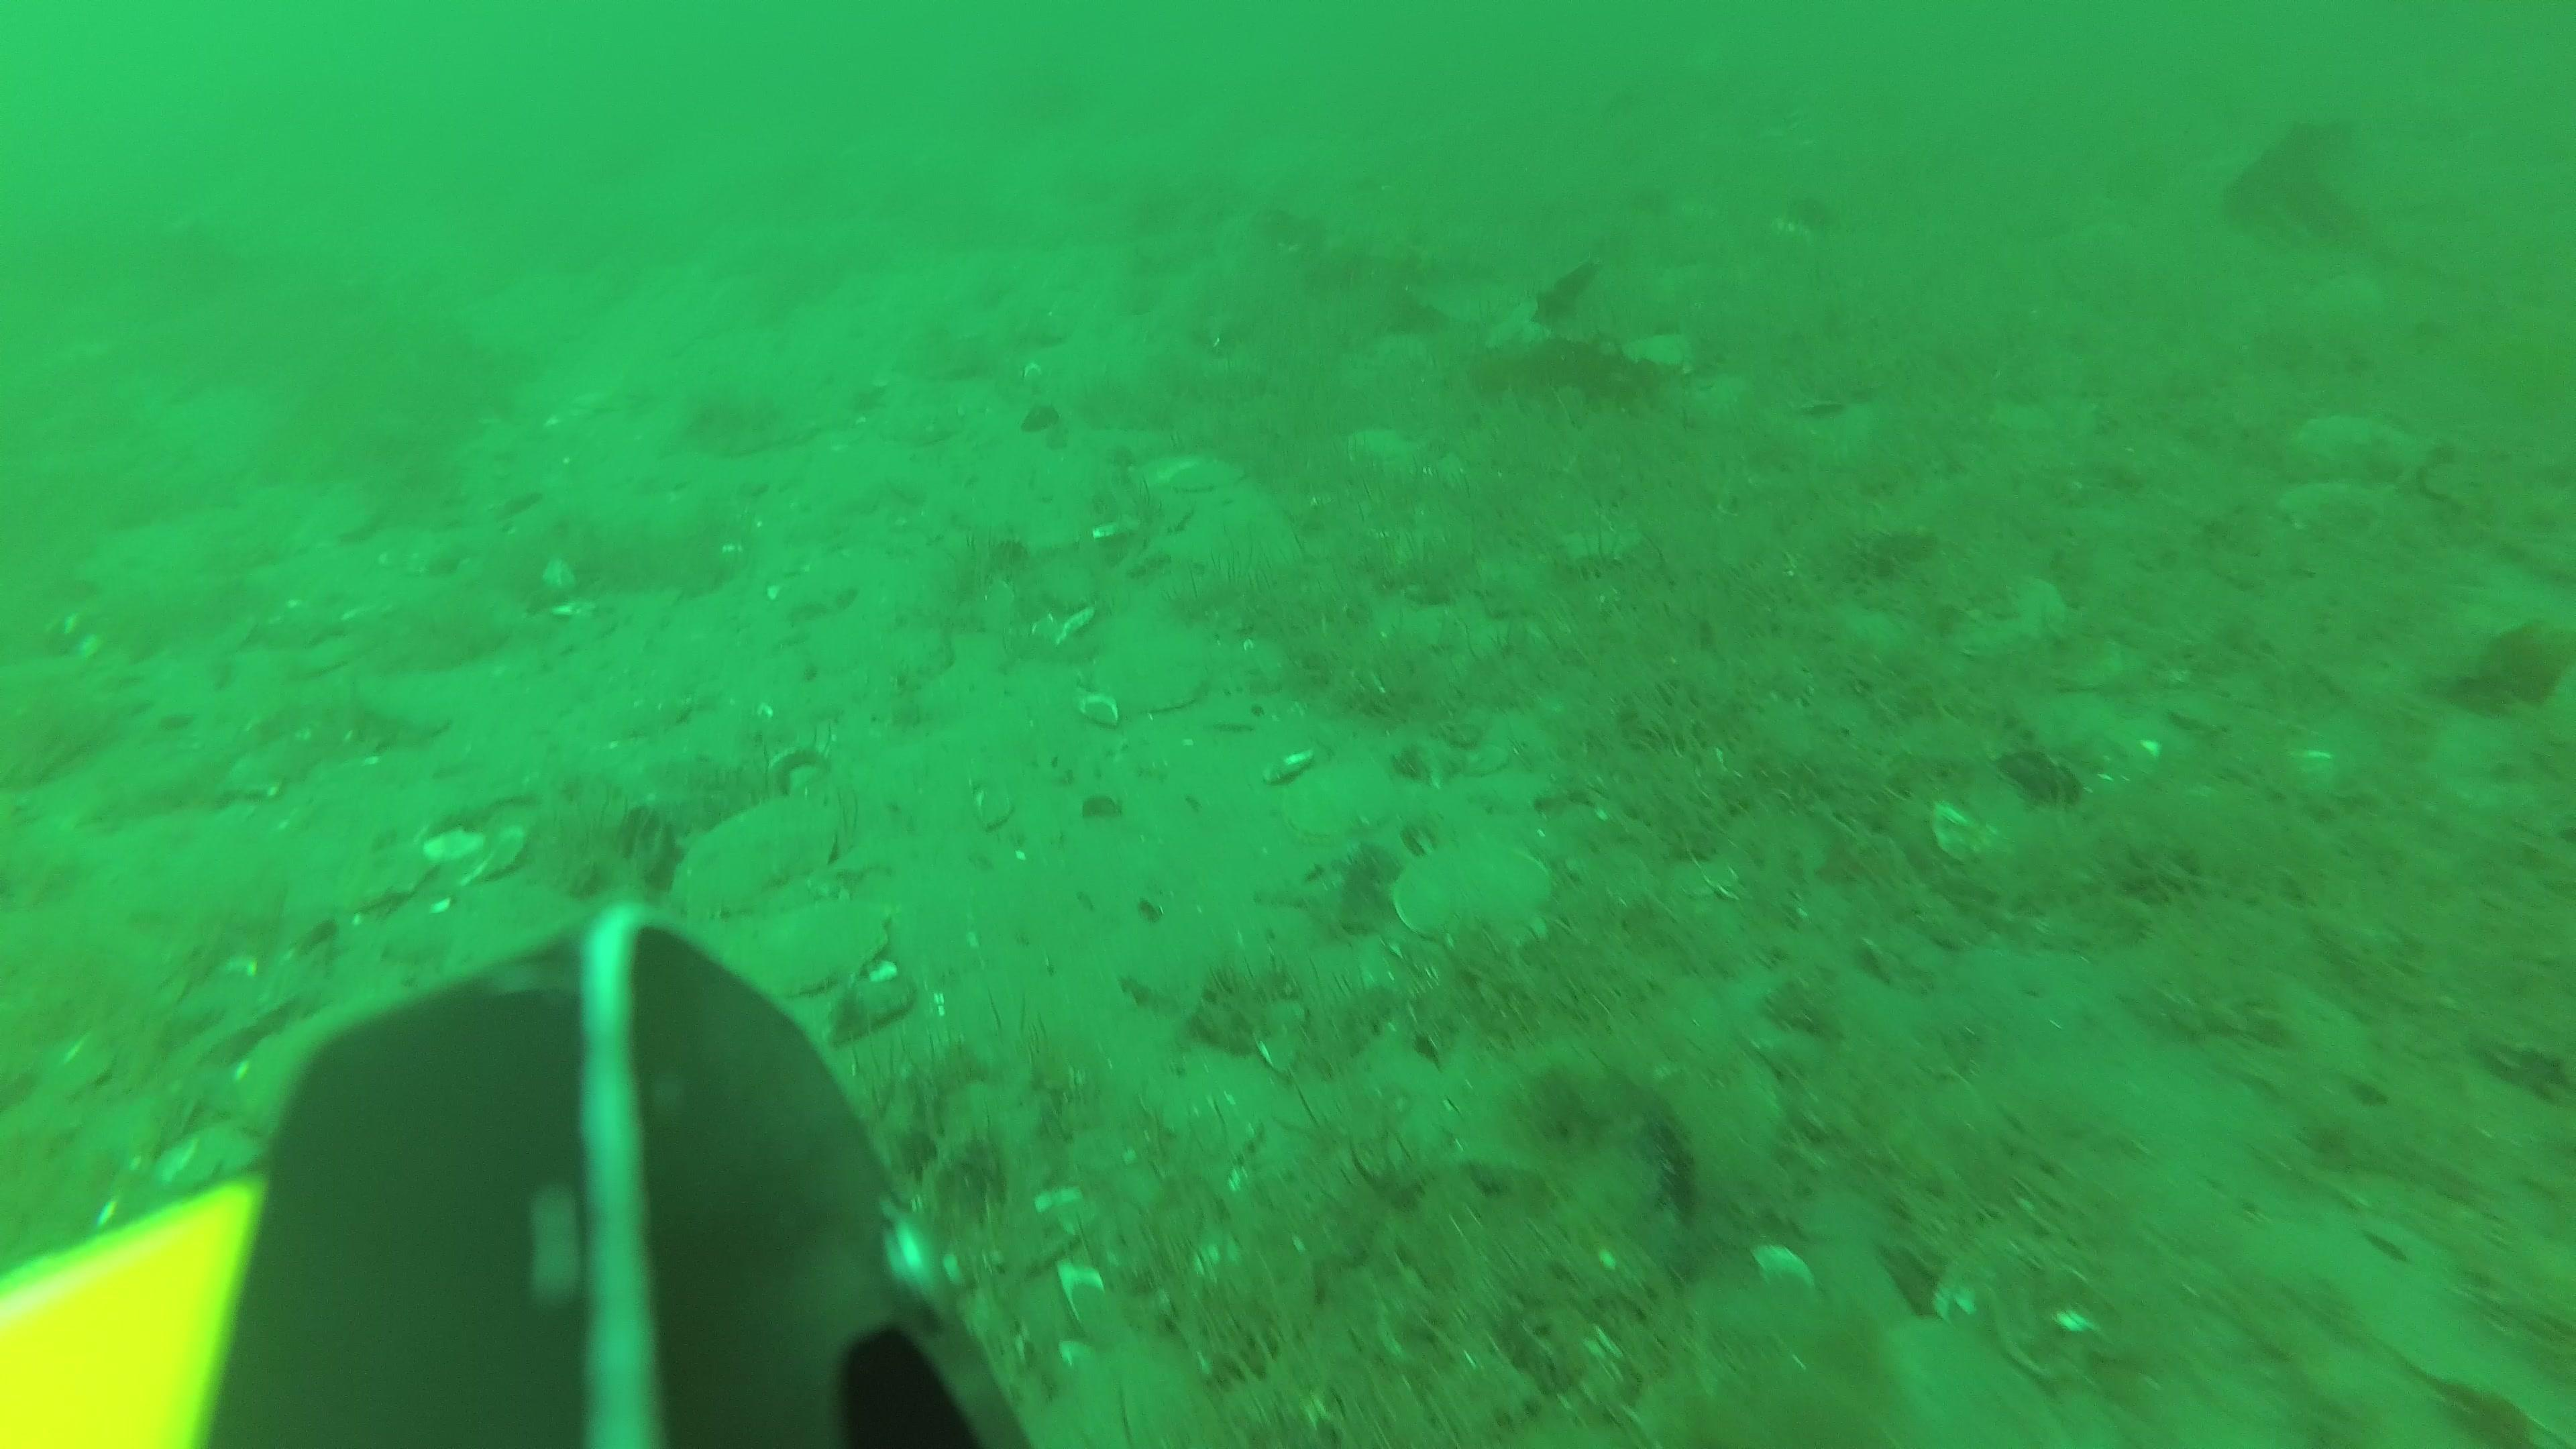scallop: (1870, 1323, 2058, 1449), (674, 794, 837, 922), (1396, 835, 1553, 955), (757, 895, 892, 1000), (1277, 764, 1392, 846), (1951, 577, 2070, 651), (2296, 414, 2424, 483), (1095, 632, 1205, 711), (2281, 481, 2380, 538), (1143, 449, 1244, 499)
